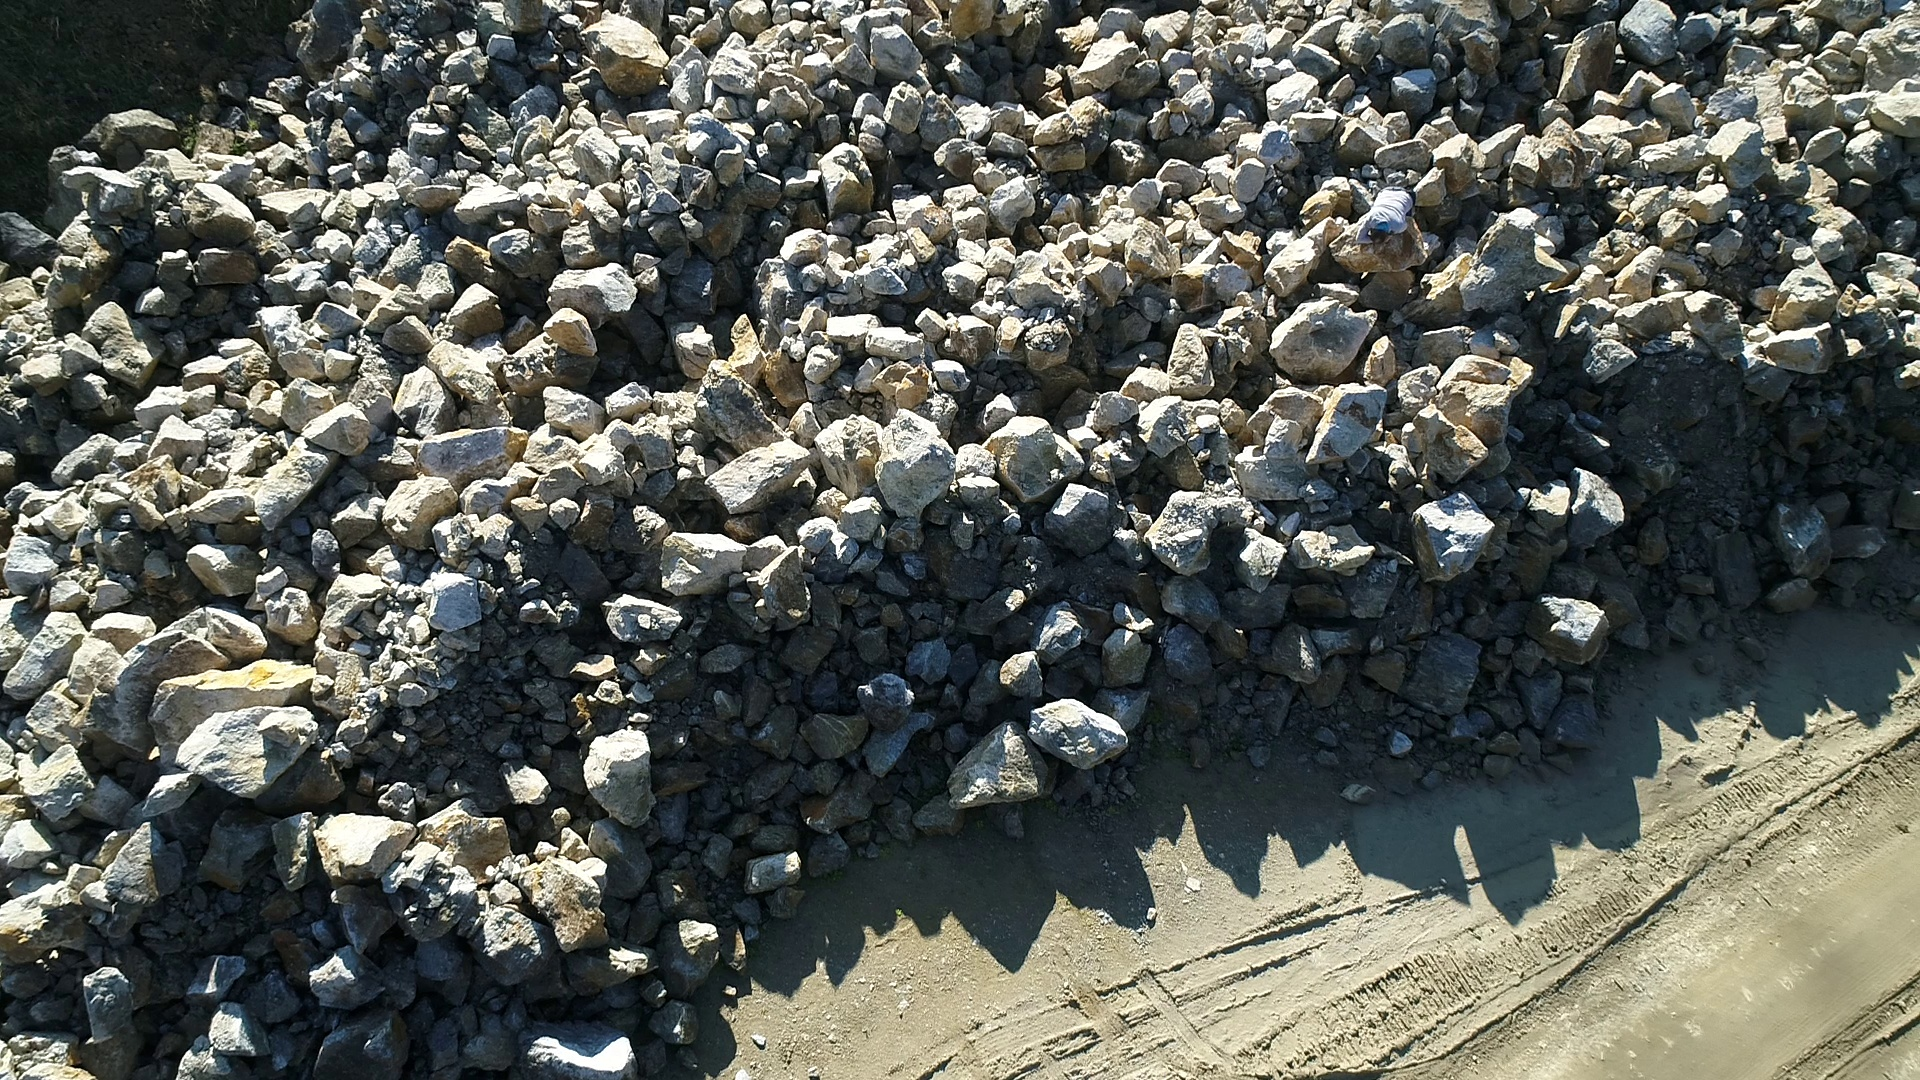person: (1353, 184, 1417, 245)
